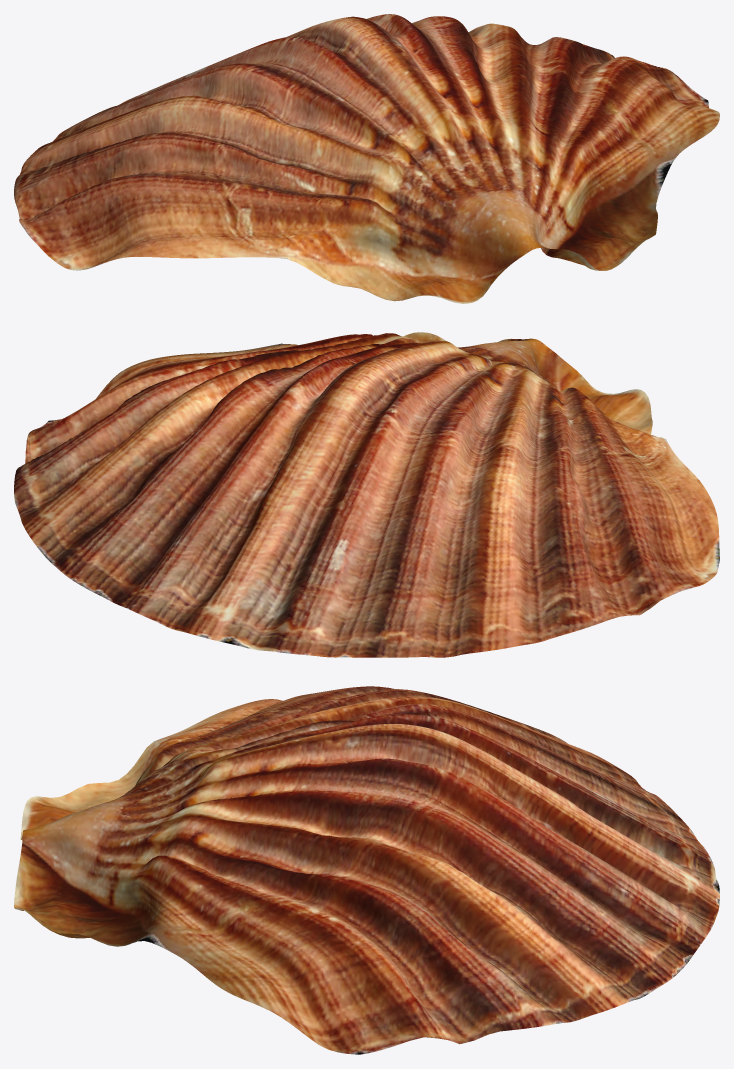
File: seashell1_edit_for_FBX.fbx
3 views of the same model, one above another, from view 1: azimuth 30°, elevation 25°; view 2: azimuth 150°, elevation 25°; view 3: azimuth 270°, elevation 25° (orthographic). The views are drawn at different scales.
Parts seen in each view (by area): view 1: seashell1; view 2: seashell1; view 3: seashell1.
Part boxes in pixels (x1,y1,x2,y2): seashell1: (14,14,719,303); seashell1: (14,332,719,657); seashell1: (14,686,719,1054).
Bounding box in the file's own units: 18.41 × 4.26 × 15.88.
